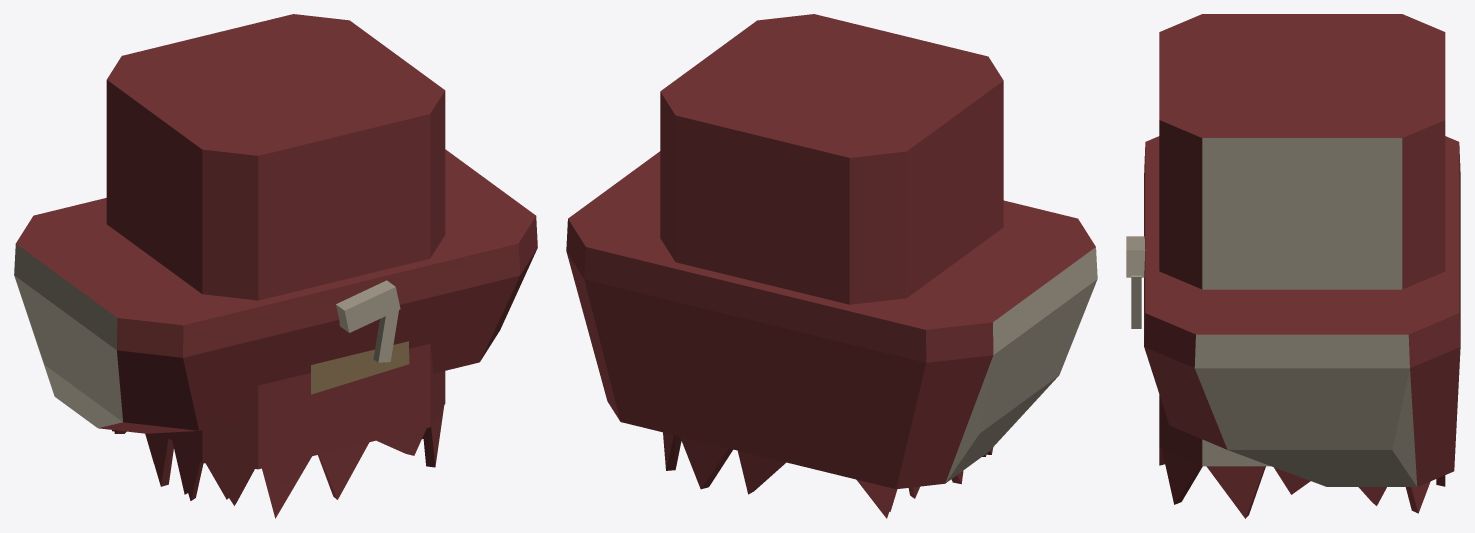
File: tl_wear_shorts_v01.glb
3 views of the same model, side by side, from view 1: azimuth 30°, elevation 25°; view 2: azimuth 150°, elevation 25°; view 3: azimuth 270°, elevation 25° (orthographic). The views are drawn at different scales.
Visible parts, largest first — view 1: fit_leg_upper_l, fit_hips, fit_leg_upper_r; view 2: fit_hips, fit_leg_upper_l, fit_leg_upper_r; view 3: fit_leg_upper_l, fit_hips, fit_leg_upper_r.
Boxes of the visible parts, box(x1,y1,x2,y2) form: fit_leg_upper_l: box(106, 14, 445, 505); fit_hips: box(14, 149, 537, 433); fit_leg_upper_r: box(112, 430, 311, 518); fit_hips: box(566, 151, 1097, 489); fit_leg_upper_l: box(660, 14, 1003, 511); fit_leg_upper_r: box(680, 436, 986, 518); fit_leg_upper_l: box(1159, 14, 1445, 518); fit_hips: box(1126, 136, 1460, 486); fit_leg_upper_r: box(1207, 466, 1445, 492).
Bounding box in the file's own units: 0.402 × 0.3355 × 0.264.
